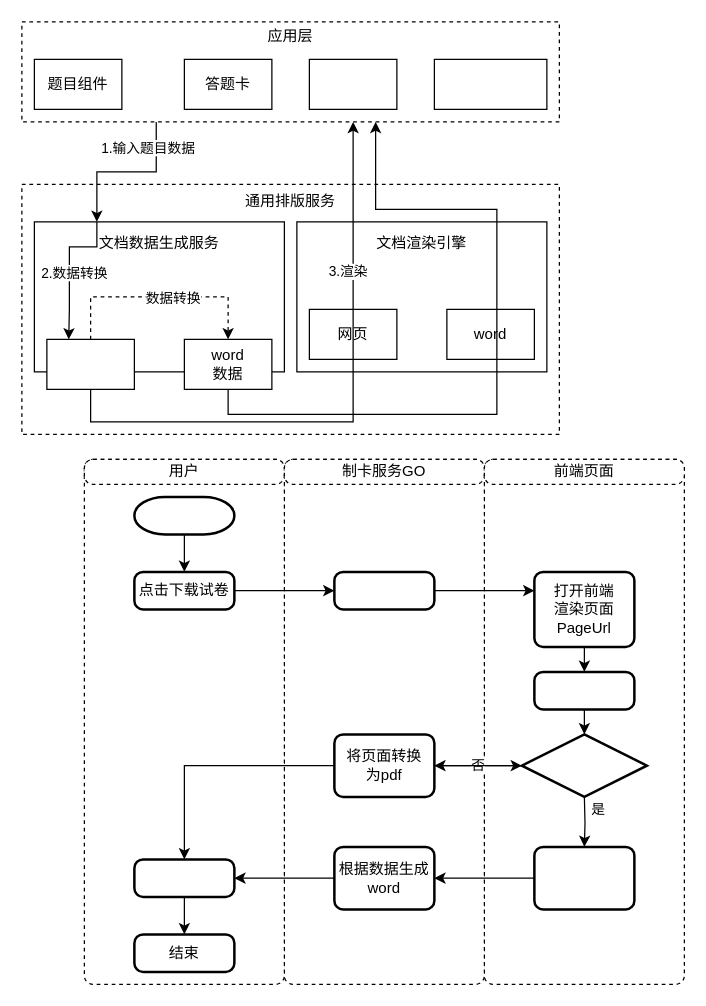
Image size: 706x1006. Some labels were removed from this diagram. The shapes that lost their labels are listed below. From the top down, each one's centre as x and y in pixels, then its label:
(352,83): 下载试卷
(490,83): APP错题打印
(90,363): 网页 数据
(183,515): 开始
(383,590): 生成下载任务
(583,690): 页面加载完成
(584,765): 是否为word
(183,878): 导出成功
(583,877): 输出word数据 给制卡服务
